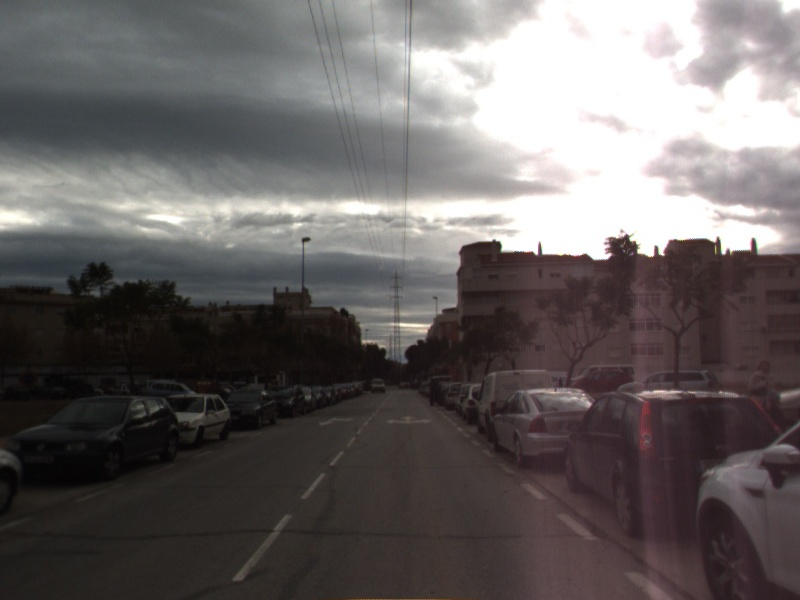STRAIGHT_LEFT_RIGHT: (383, 413, 434, 426)
